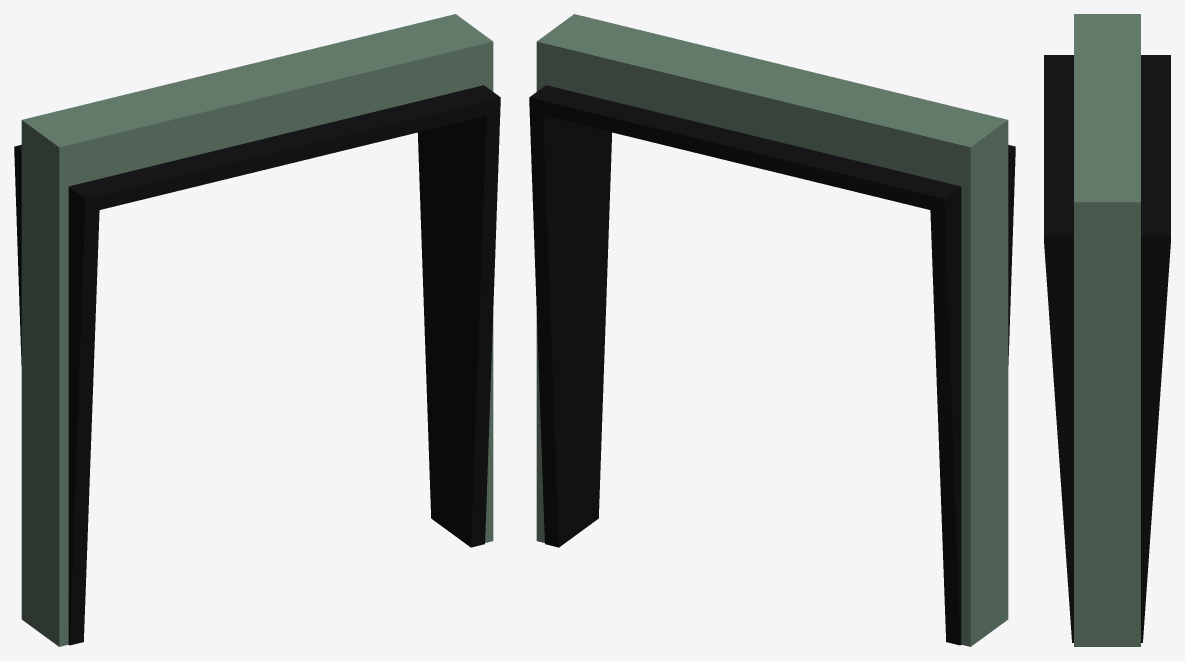
File: W2_DoorSquare_2m_Wall.fbx
The picture shows the model from 3 angles, left to right: view 1: azimuth 30°, elevation 25°; view 2: azimuth 150°, elevation 25°; view 3: azimuth 270°, elevation 25°; orthographic projection. The views are drawn at different scales.
Parts seen in each view (by area): view 1: W2_DoorSquare_2m_Wall.001; view 2: W2_DoorSquare_2m_Wall.001; view 3: W2_DoorSquare_2m_Wall.001.
Boxes of the visible parts, x1,y1,x2,y2 form: W2_DoorSquare_2m_Wall.001: (14,14,500,646); W2_DoorSquare_2m_Wall.001: (529,14,1015,646); W2_DoorSquare_2m_Wall.001: (1044,14,1170,646).
Bounding box in the file's own units: 2 × 2.2 × 0.5693.
